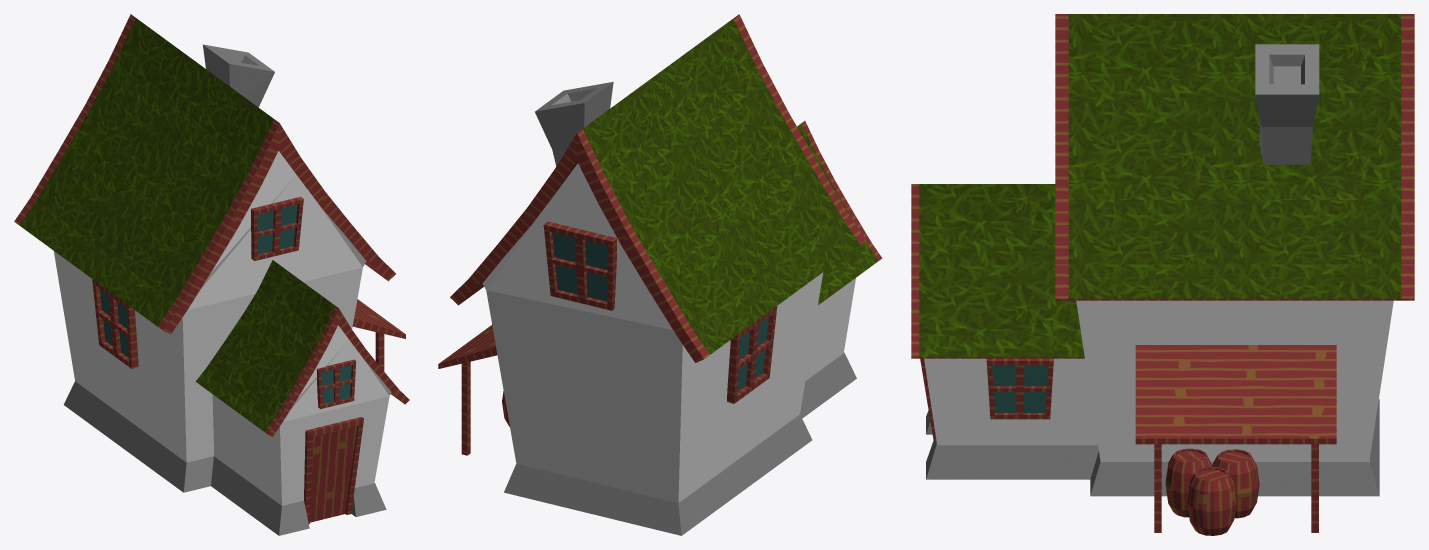
The model's file is a3d_villagehouse_medium.fbx.
3 views of the same model, side by side, from view 1: azimuth 30°, elevation 25°; view 2: azimuth 150°, elevation 25°; view 3: azimuth 270°, elevation 25° (orthographic). The views are drawn at different scales.
Visible parts, largest first — view 1: villagehouse_medium_LOD0; view 2: villagehouse_medium_LOD0; view 3: villagehouse_medium_LOD0.
Boxes of the visible parts, box(x1,y1,x2,y2) form: villagehouse_medium_LOD0: box(14, 14, 409, 535); villagehouse_medium_LOD0: box(438, 14, 882, 535); villagehouse_medium_LOD0: box(911, 14, 1414, 535).
Size of what is drawn, in the model's own units: 14.99 by 18.8 by 19.63.
